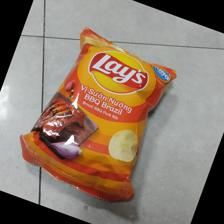Lays: (19, 29, 177, 204)
